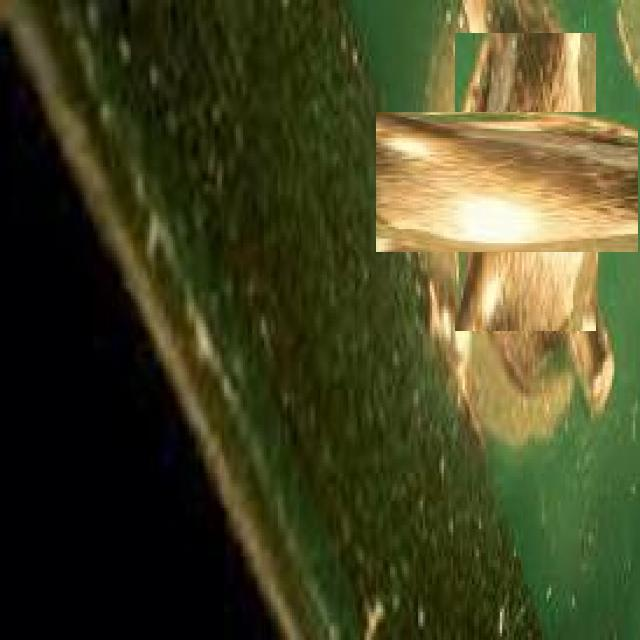redundant: (377, 112, 639, 252)
